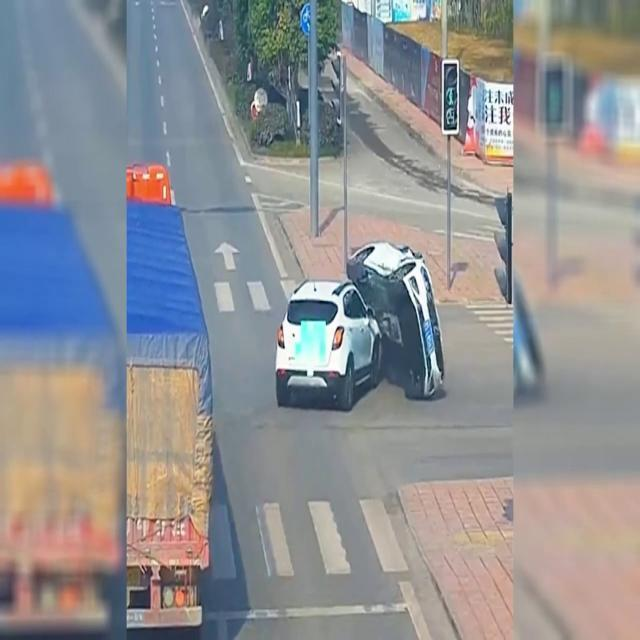accident: (272, 238, 448, 416)
